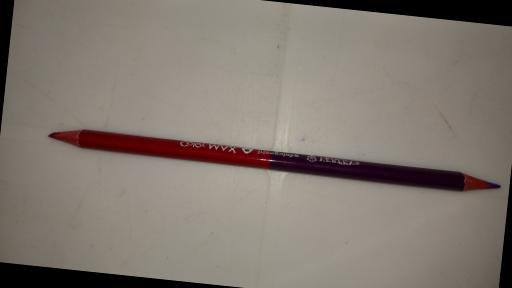Pencil: (46, 127, 502, 193)
